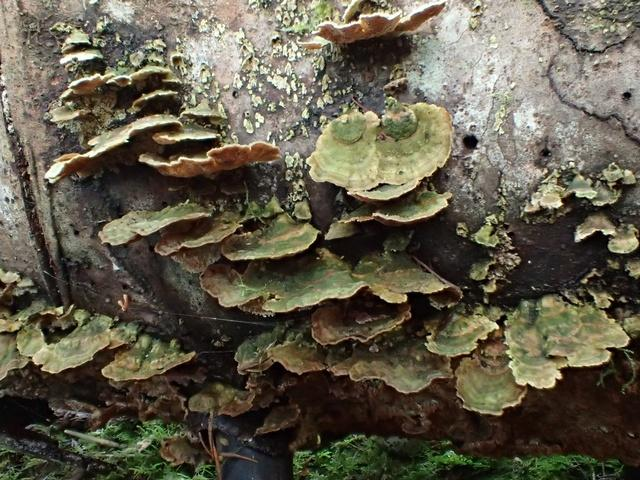poisonous_mushroom: (2, 14, 635, 437), (305, 94, 453, 204)
